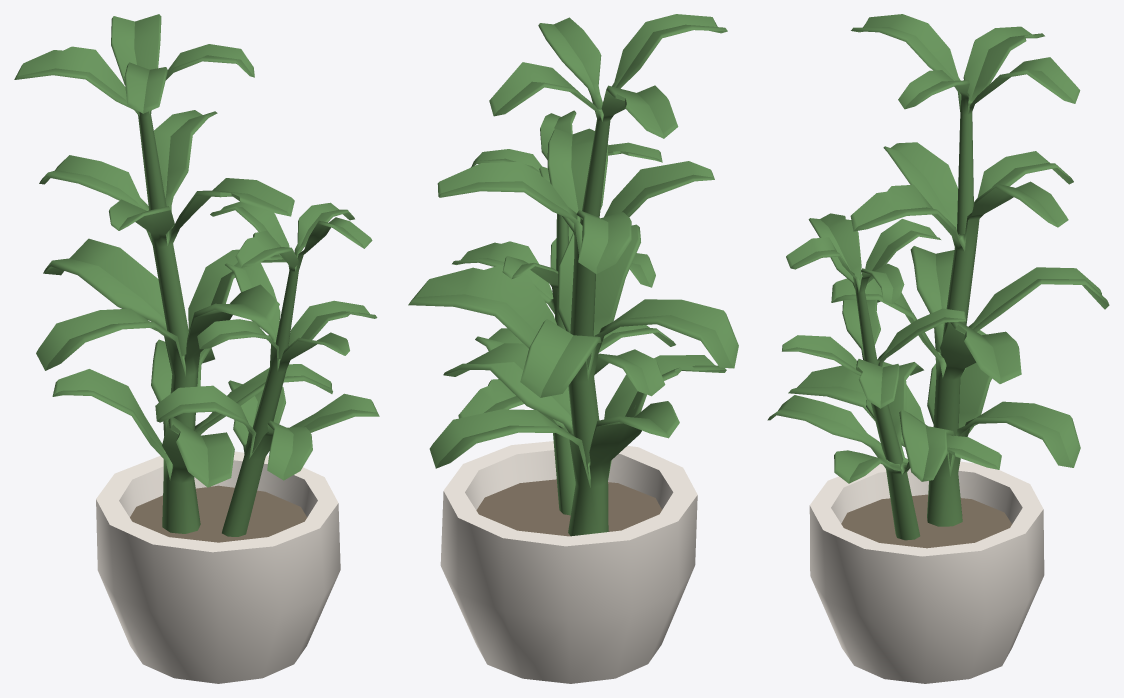
The model's file is SM_Prop_Plant_01.obj.
3 renders of one model, left to right at view 1: azimuth 30°, elevation 25°; view 2: azimuth 150°, elevation 25°; view 3: azimuth 270°, elevation 25°, orthographic. The views are drawn at different scales.
Visible parts, largest first — view 1: SM_Prop_Plant_01_Mat_SwatchOverlay_PolygonTown_01_Inst; view 2: SM_Prop_Plant_01_Mat_SwatchOverlay_PolygonTown_01_Inst; view 3: SM_Prop_Plant_01_Mat_SwatchOverlay_PolygonTown_01_Inst.
Part boxes in pixels (box(x1,y1,x2,y2)): SM_Prop_Plant_01_Mat_SwatchOverlay_PolygonTown_01_Inst: box(14, 14, 379, 683); SM_Prop_Plant_01_Mat_SwatchOverlay_PolygonTown_01_Inst: box(408, 14, 738, 683); SM_Prop_Plant_01_Mat_SwatchOverlay_PolygonTown_01_Inst: box(767, 14, 1109, 683).
Bounding box in the file's own units: 0.4042 × 0.788 × 0.4181.
1 material, 1 textured.
